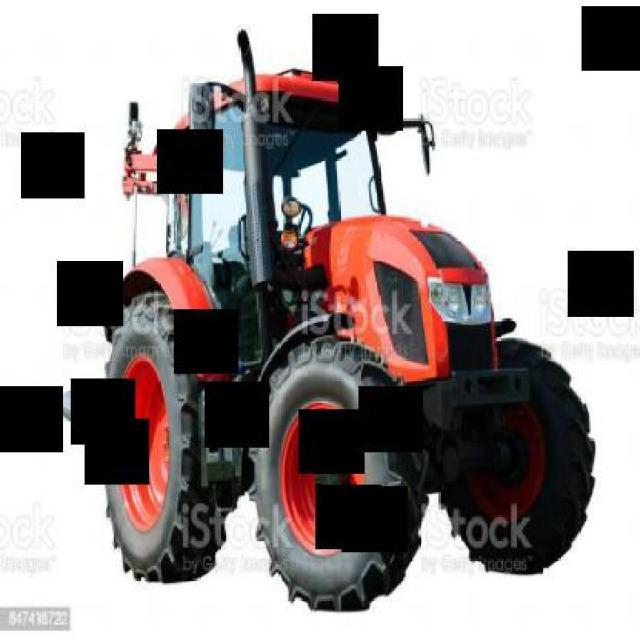Tratores - v5 YOLO V8L 2024-11-13: (61, 1, 617, 638)
